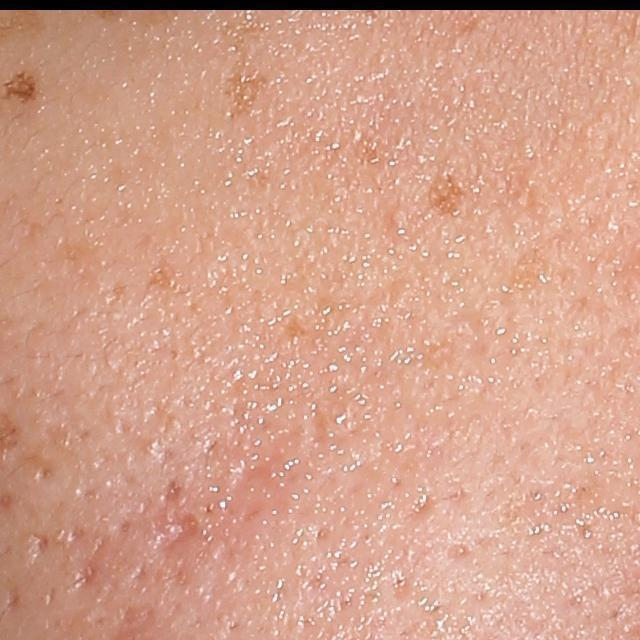atrophic_scar: (58, 512, 146, 594), (332, 542, 432, 607), (303, 374, 361, 468), (151, 476, 206, 571), (383, 485, 469, 528), (27, 532, 50, 573), (4, 576, 24, 619)
melasma: (488, 209, 624, 312), (213, 14, 283, 130), (102, 254, 180, 314), (269, 308, 325, 360), (424, 169, 474, 227)
